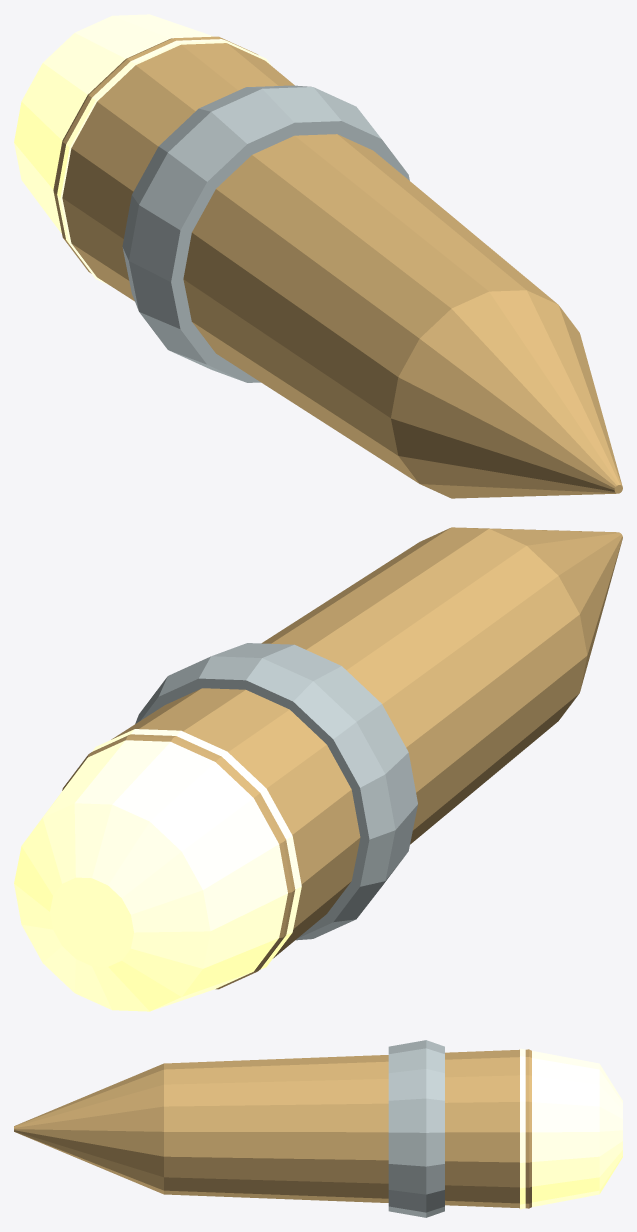
The model's file is tail.glb.
3 renders of one model, top to bottom at view 1: azimuth 30°, elevation 25°; view 2: azimuth 150°, elevation 25°; view 3: azimuth 270°, elevation 25°, orthographic. The views are drawn at different scales.
Parts seen in each view (by area): view 1: tail / body / tail identity shell, tail / body / Brushed silver ceramic, tail / body / tail identity light; view 2: tail / body / tail identity shell, tail / body / tail identity light, tail / body / Brushed silver ceramic; view 3: tail / body / tail identity shell, tail / body / tail identity light, tail / body / Brushed silver ceramic.
Part boxes in pixels (x1=…): tail / body / tail identity shell: x1=53, y1=36, x2=622, y2=498; tail / body / Brushed silver ceramic: x1=122, y1=85, x2=409, y2=382; tail / body / tail identity light: x1=14, y1=14, x2=271, y2=284; tail / body / tail identity shell: x1=62, y1=527, x2=622, y2=989; tail / body / tail identity light: x1=14, y1=729, x2=301, y2=1011; tail / body / Brushed silver ceramic: x1=135, y1=643, x2=417, y2=940; tail / body / tail identity shell: x1=14, y1=1049, x2=531, y2=1208; tail / body / tail identity light: x1=520, y1=1048, x2=622, y2=1209; tail / body / Brushed silver ceramic: x1=388, y1=1040, x2=444, y2=1217.
Bounding box in the file's own units: 3.8 × 3.8 × 13.
